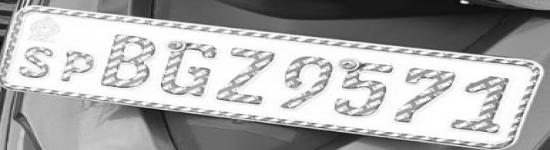1: (452, 75, 510, 134)
5: (335, 57, 394, 120)
7: (395, 66, 456, 125)
9: (280, 51, 335, 112)
B: (99, 32, 159, 89)
G: (160, 39, 220, 96)
N: (57, 47, 97, 83)
S: (17, 44, 55, 80)
Z: (218, 44, 277, 106)
